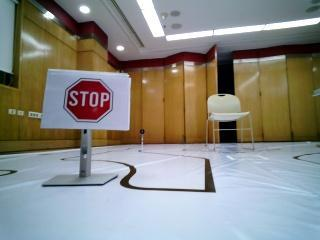stop: (48, 73, 126, 128)
